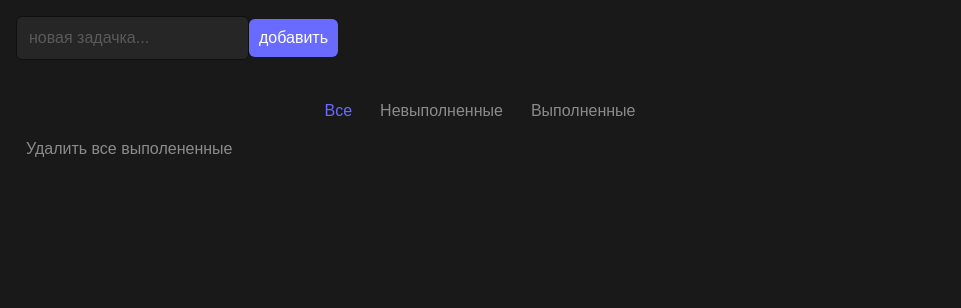
Test case: App › displays added item on screen
The width and height of the screenshot is (961, 308).
Type "todo_test_label" into the field with placeholder "новая задачка..." at x=132, y=38, box [16,16,249,60]
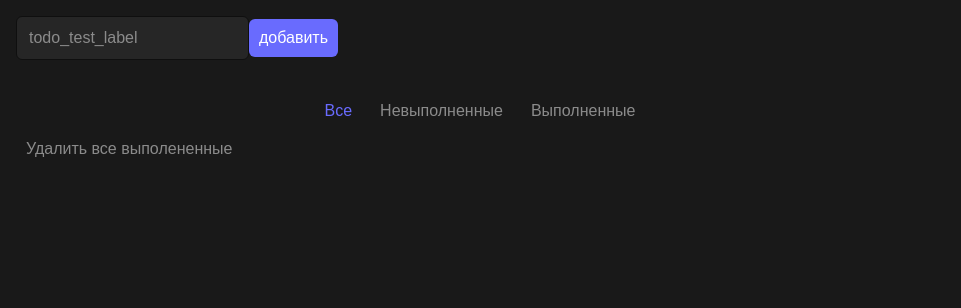
Click the button "добавить" at x=294, y=38, box [249,19,338,57]
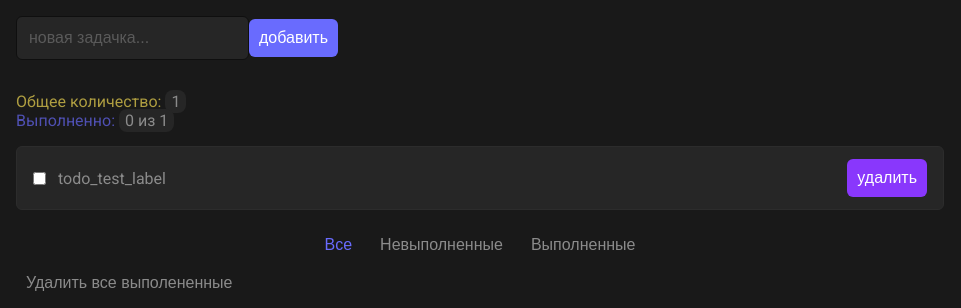
Check: the text "todo_test_label" is shown, box [58,168,166,188]
